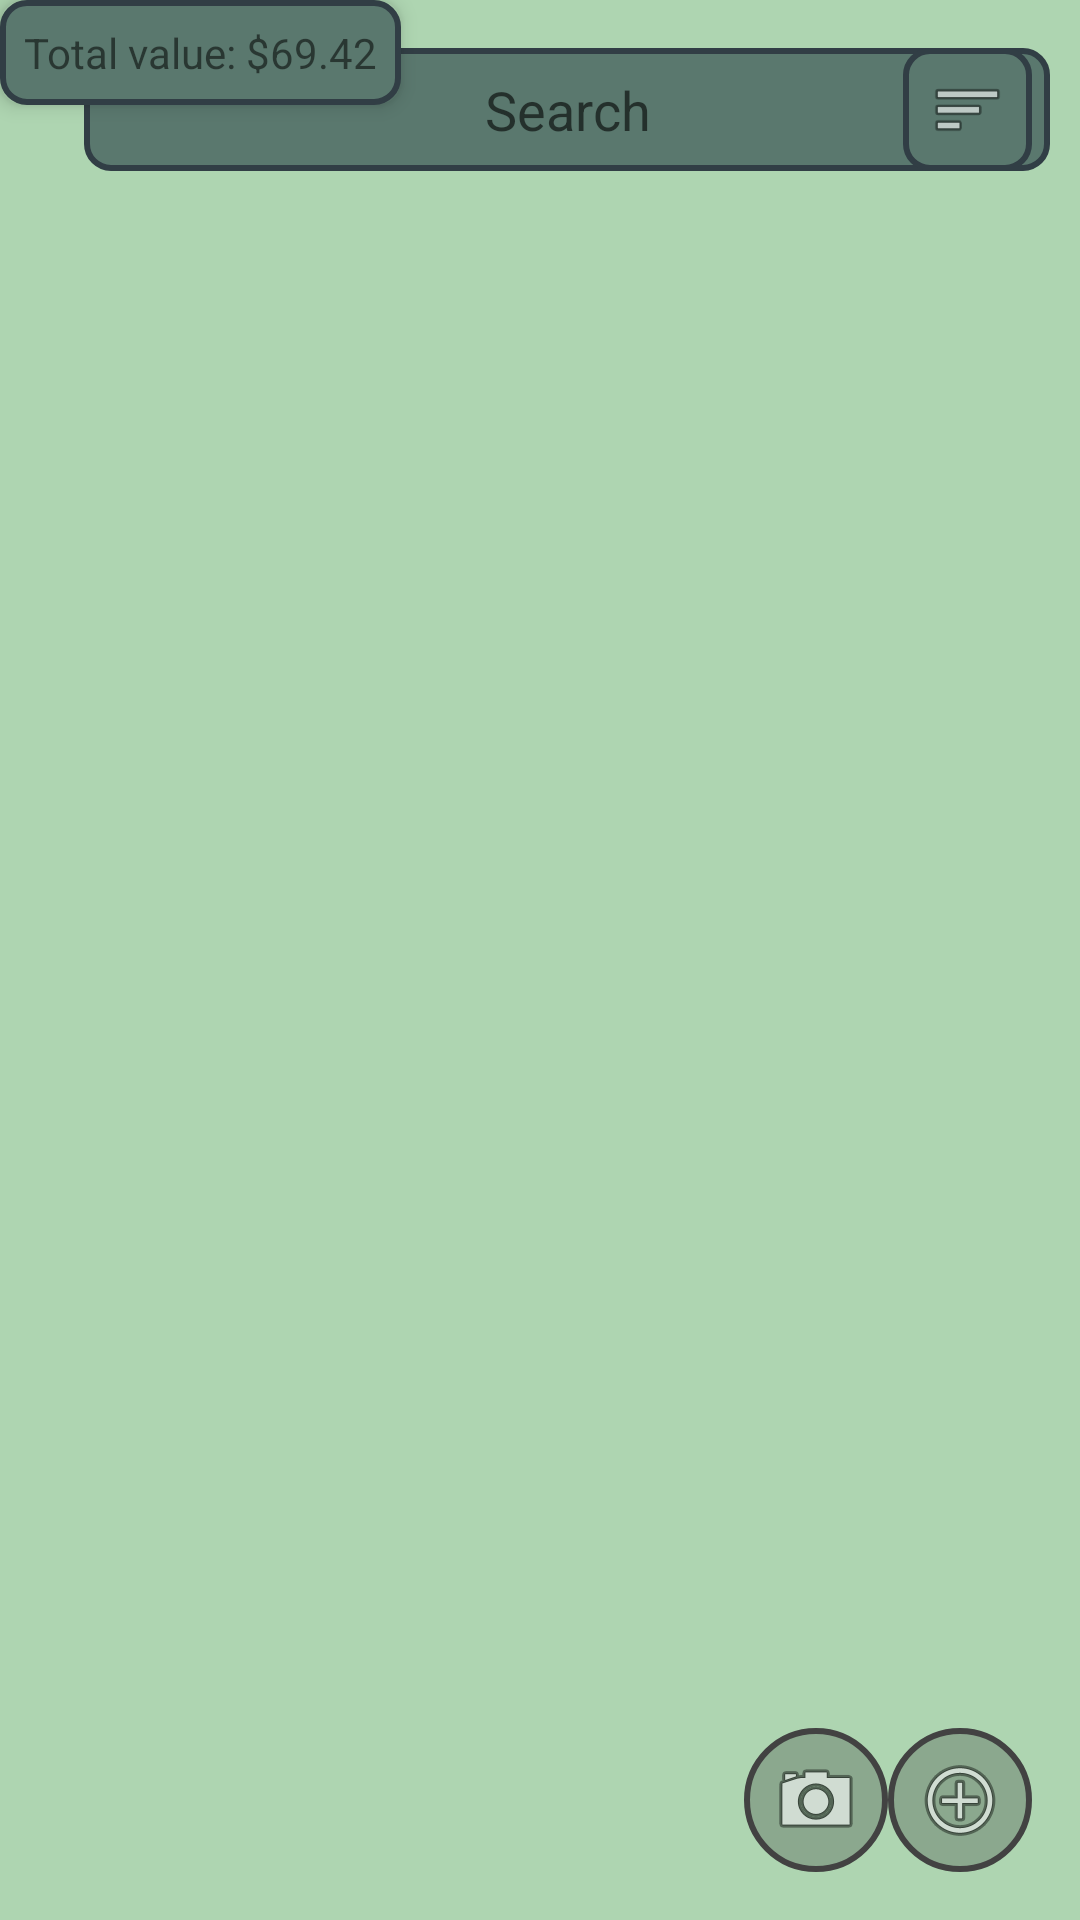

Screen size 1080w x 1920h. Icon name, then its center in pixels as (x=x, y=y):
add: (x=960, y=1800)
camera: (x=816, y=1800)
sort by size: (x=967, y=109)
